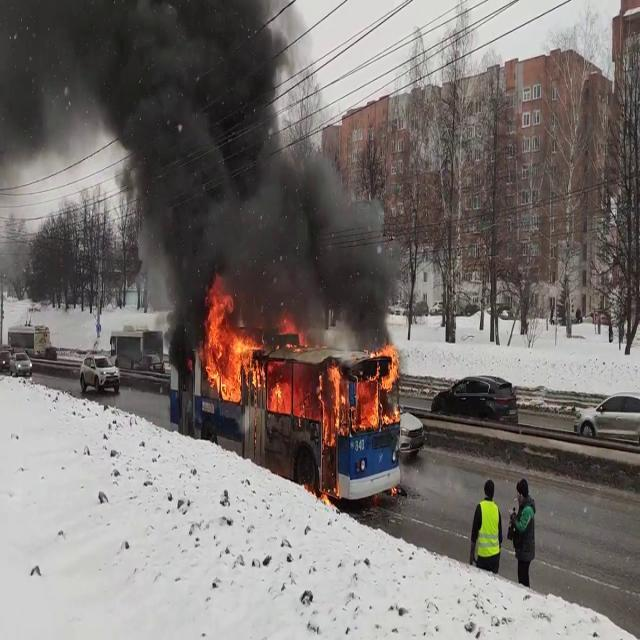Fire: (270, 332, 404, 438), (196, 283, 264, 405)
Smoke: (0, 0, 407, 333)
